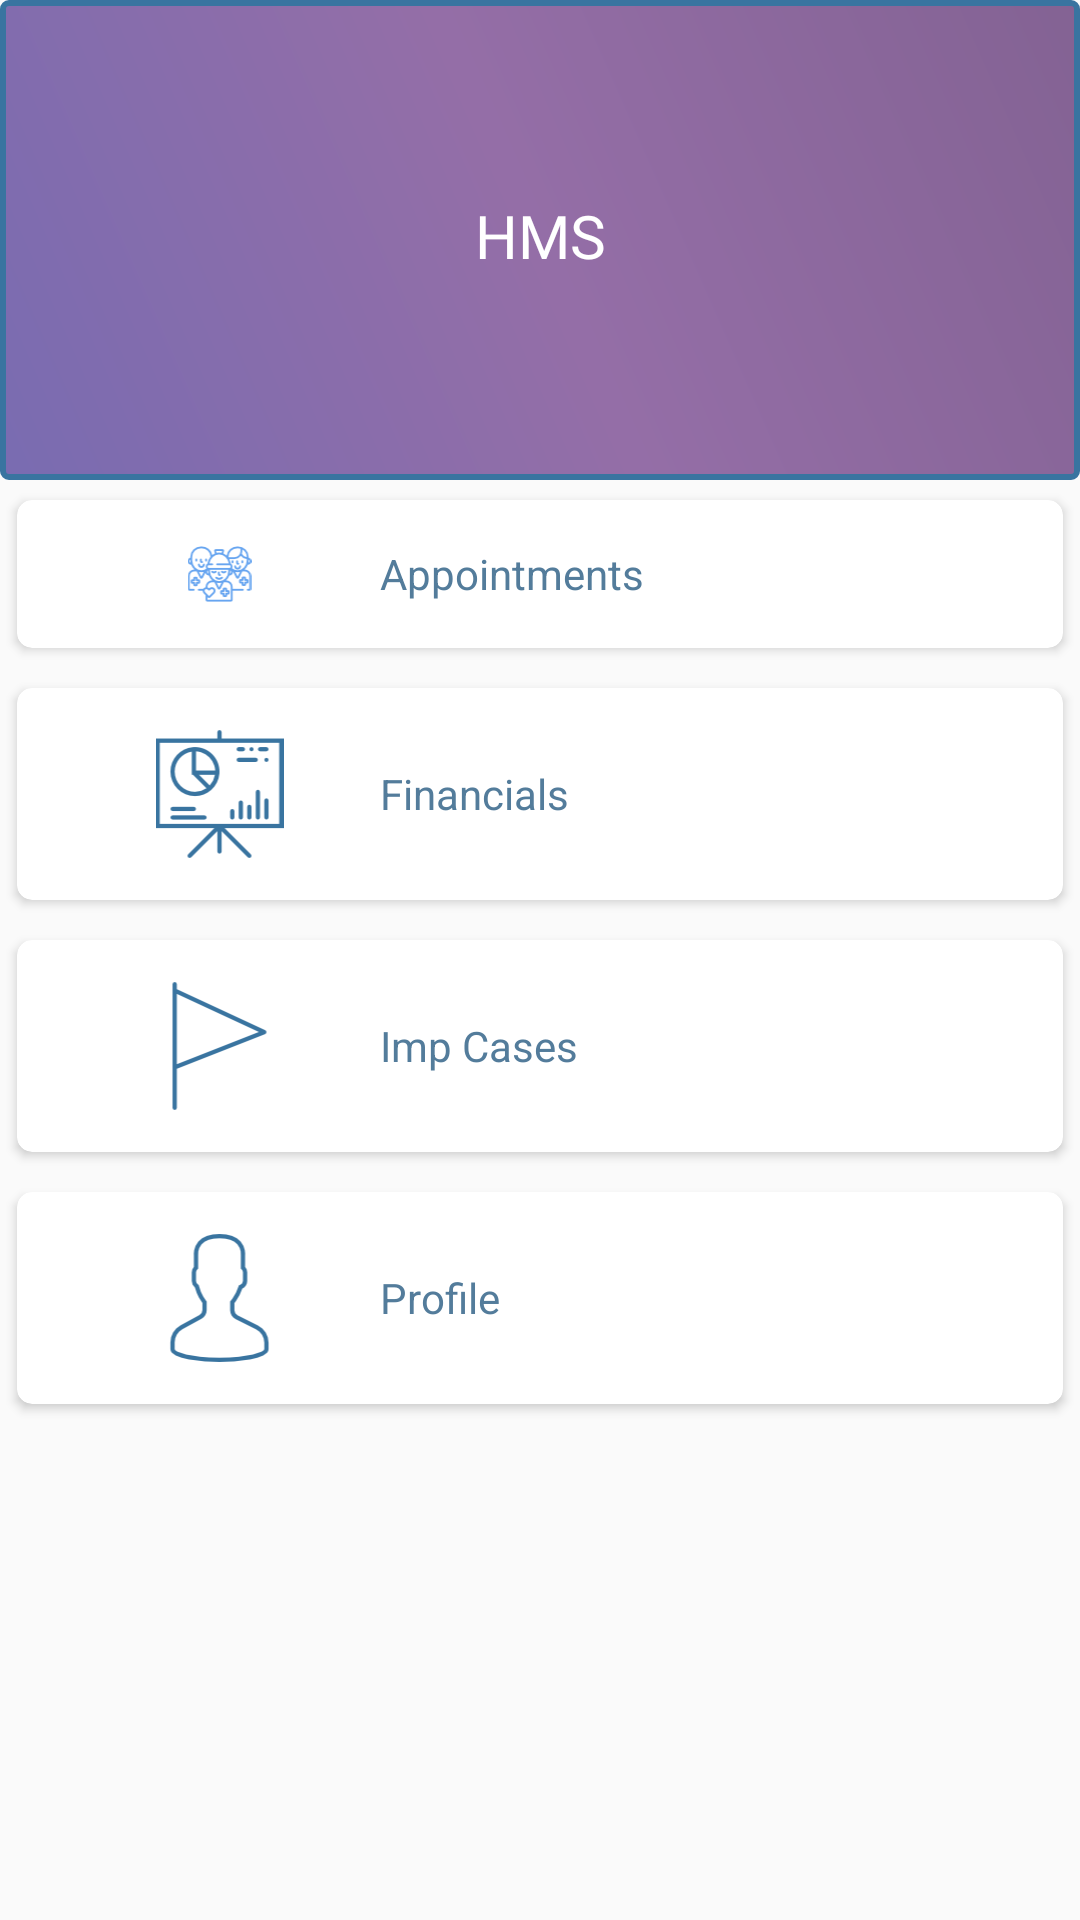

Named icons in this screenshot (1080×1920) and their bounding boxes, rect(x1, y1, x2, y2):
important: rect(172, 982, 267, 1110)
patient: rect(188, 546, 252, 602)
